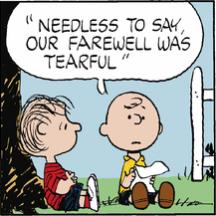charlie: (99, 91, 175, 209)
